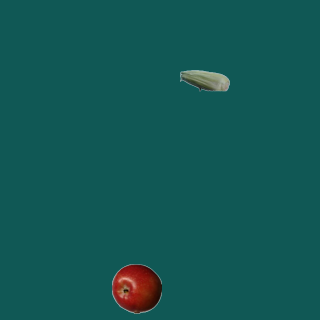Apple Braeburn: (111, 263, 161, 313)
Corn Husk: (179, 55, 229, 105)
